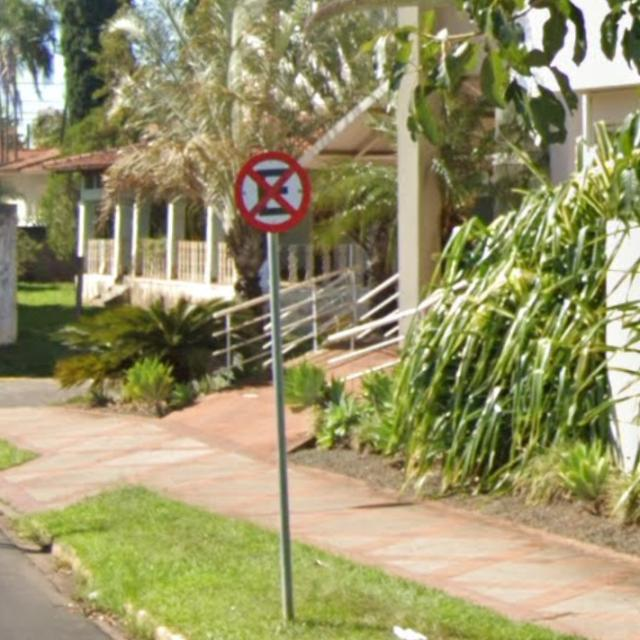no parking: (218, 142, 324, 242)
